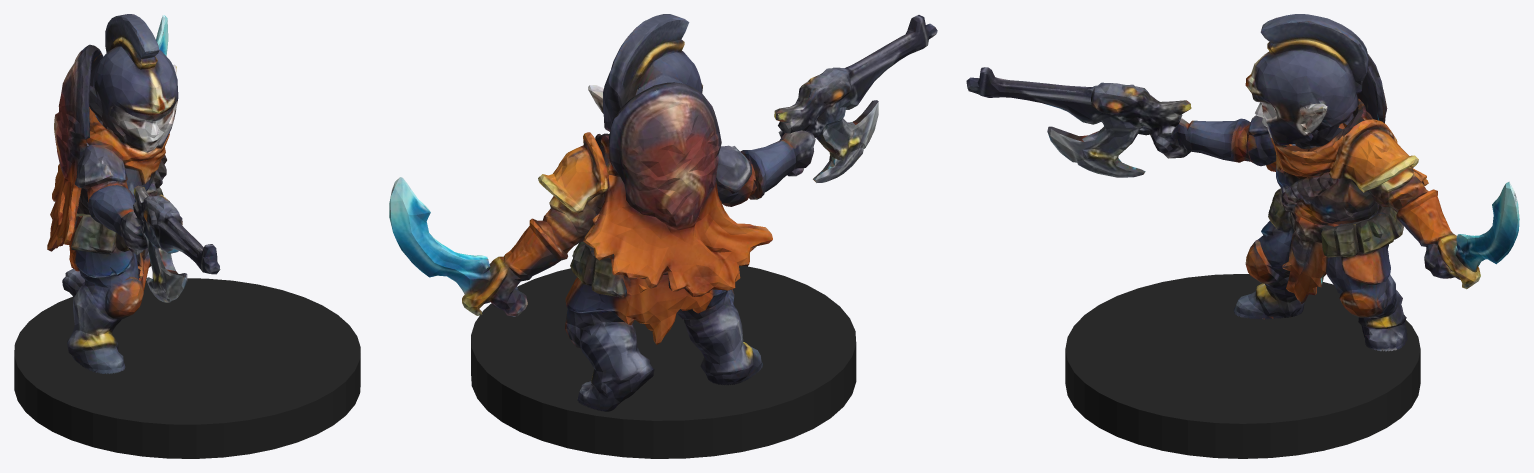
Rendered from cv-warrior-pistol-power-weapon.glb.
3 views of the same model, side by side, from view 1: azimuth 30°, elevation 25°; view 2: azimuth 150°, elevation 25°; view 3: azimuth 270°, elevation 25° (orthographic). The views are drawn at different scales.
Visible parts, largest first — view 1: base, figure; view 2: figure, base; view 3: figure, base.
Boxes of the visible parts, x1=… form: base: x1=14, y1=278, x2=360, y2=458; figure: x1=47, y1=14, x2=220, y2=373; figure: x1=389, y1=14, x2=937, y2=411; base: x1=471, y1=266, x2=856, y2=458; figure: x1=966, y1=14, x2=1519, y2=351; base: x1=1065, y1=274, x2=1420, y2=458.
Bounding box in the file's own units: 1.1 × 1.22 × 1.72.
2 materials, 1 textured.
